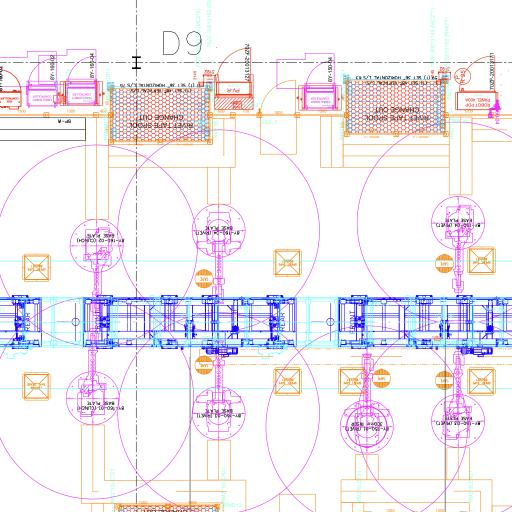robot: (65, 216, 125, 324), (187, 338, 247, 442), (429, 192, 488, 297), (191, 200, 246, 308), (340, 351, 394, 455), (431, 350, 486, 449), (65, 330, 121, 426)
